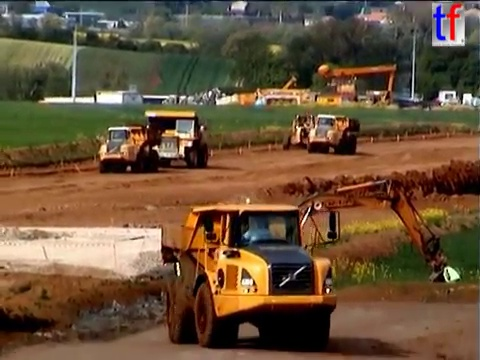crane: (316, 62, 399, 108)
excavator: (163, 177, 463, 297)
motor grader: (281, 111, 324, 150)
truck: (157, 200, 343, 350), (141, 108, 209, 169), (96, 123, 162, 175), (306, 112, 361, 156)
worker: (439, 260, 464, 296)
